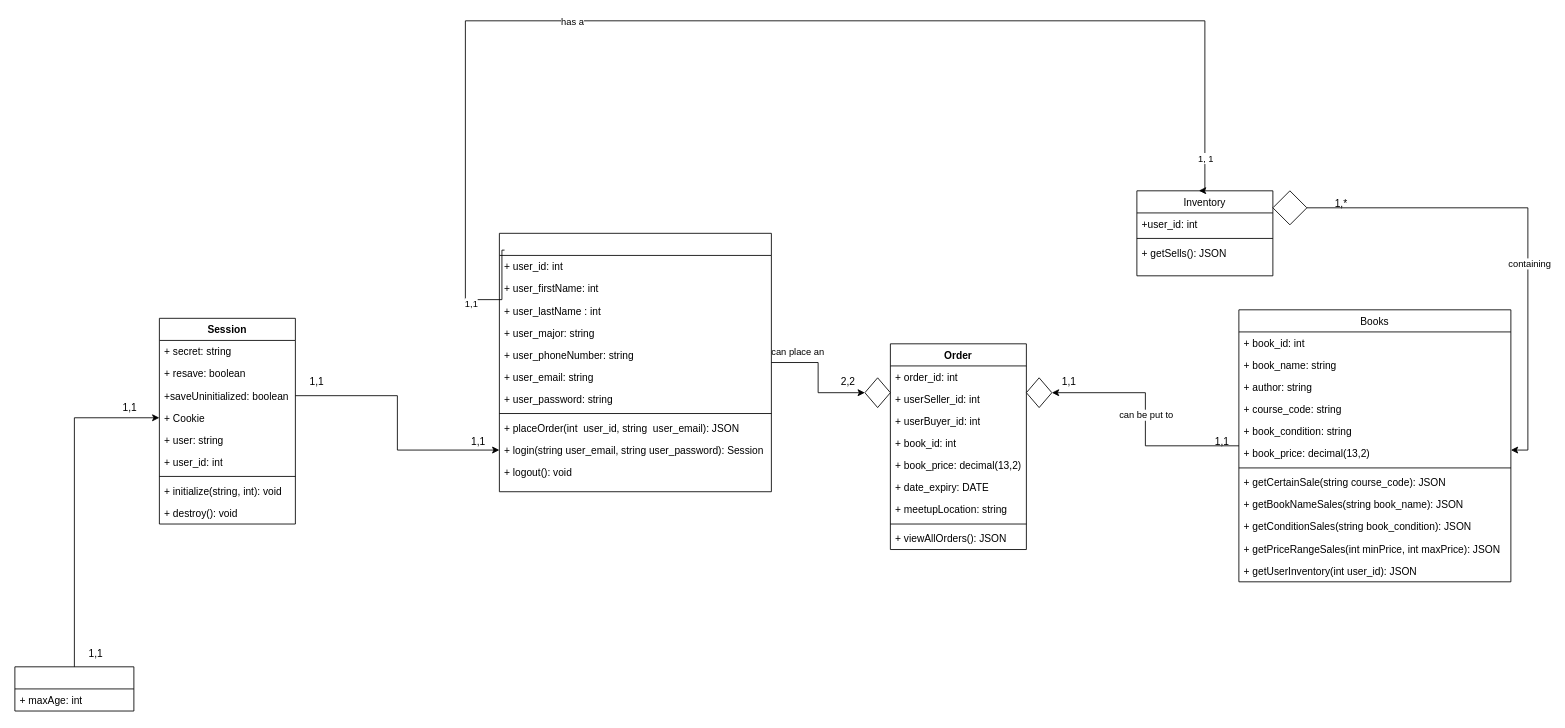
This 1565x728 diagram has some shape labels left out. The box of each missing label's shape, as (x1, y1, x2, y2) in pixels:
Accounts: (499, 232, 771, 492)
Cookie: (14, 666, 134, 711)
